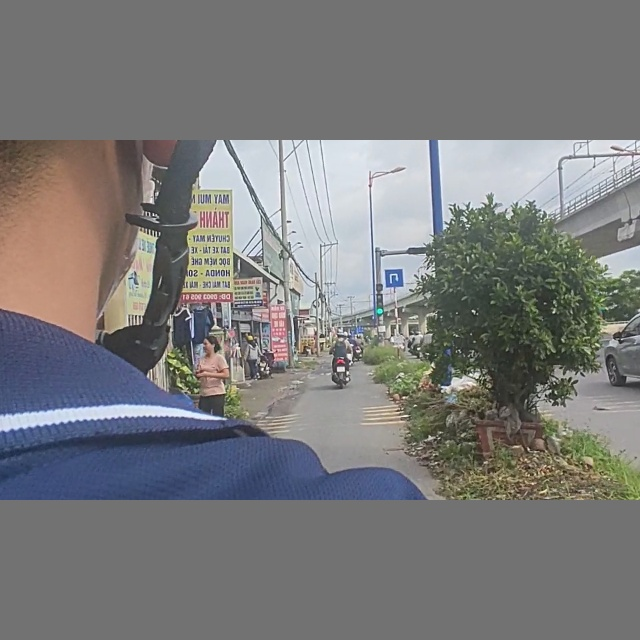I.409: (383, 267, 404, 289)
